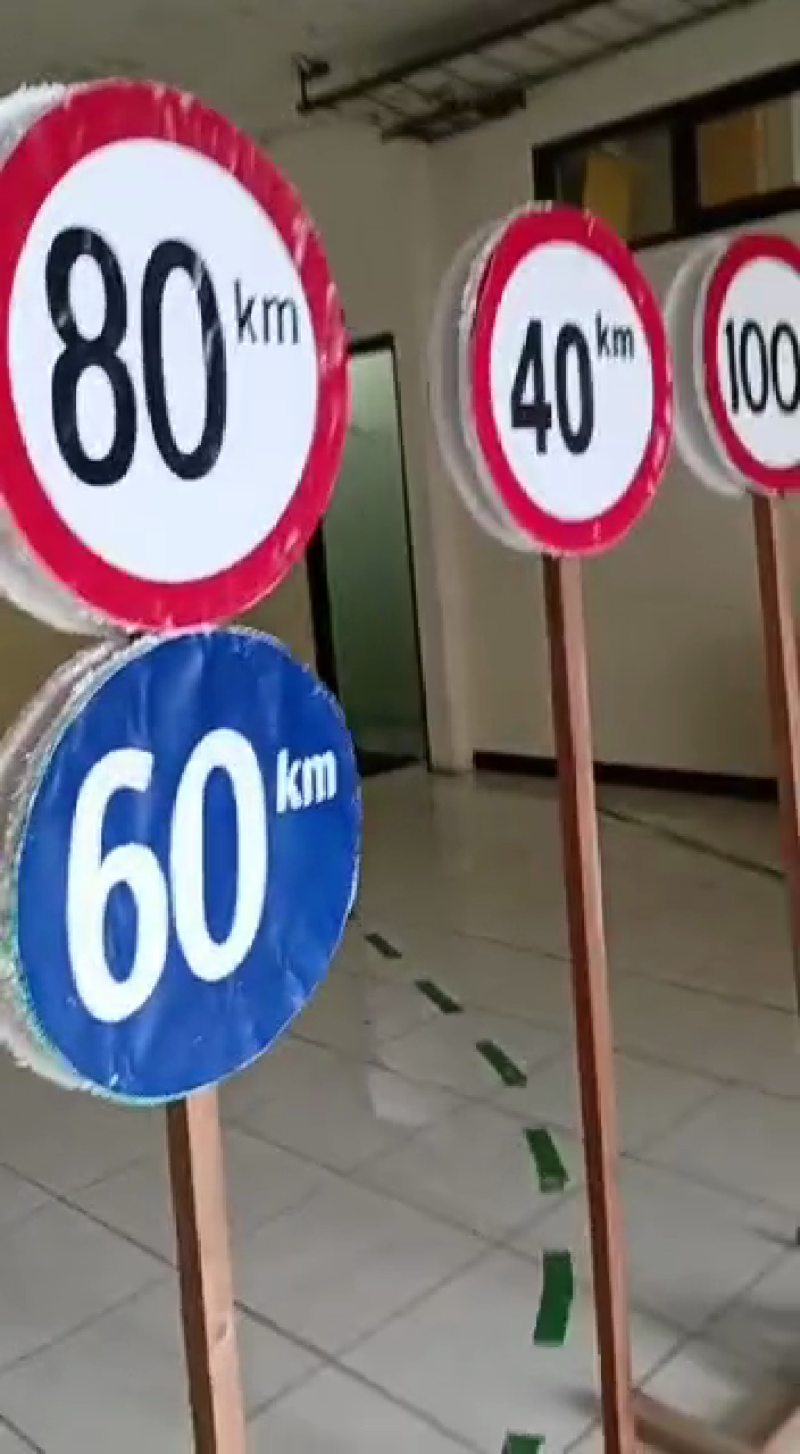batas maksimal 100kmperjam: (689, 216, 800, 496)
batas maksimal 40kmperjam: (450, 200, 672, 570)
batas maksimal 80kmperjam minimal 60kmperjam: (1, 66, 372, 1122)
